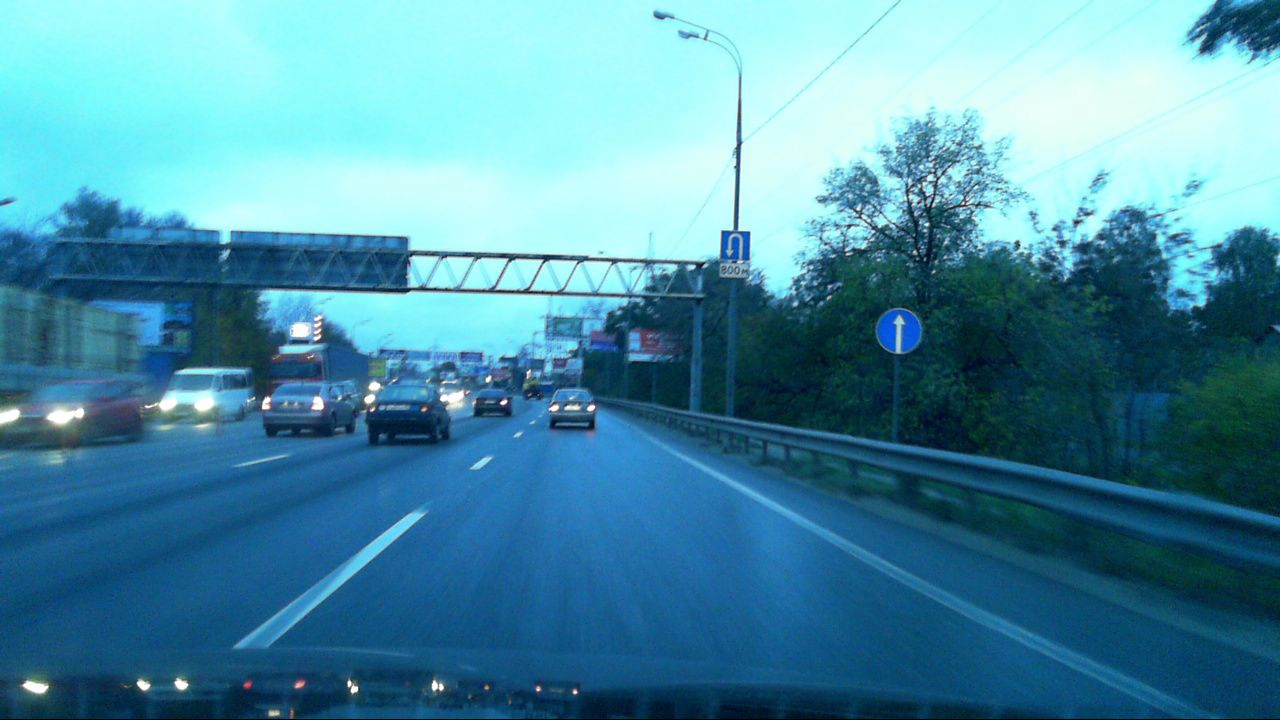U-turn: (720, 230, 751, 261)
